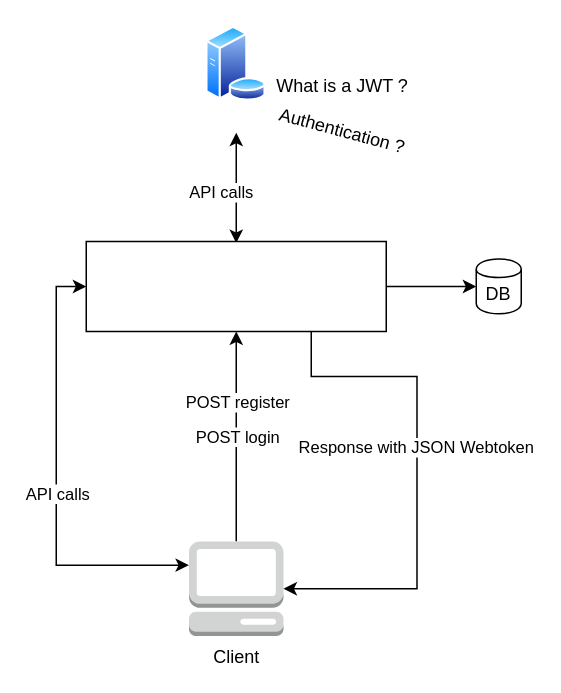
This 561x693 diagram has some shape labels left out. The centre of each missing label's shape, as x and y in pixels:
Authentication Service: (235,286)
Server: (235,63)
